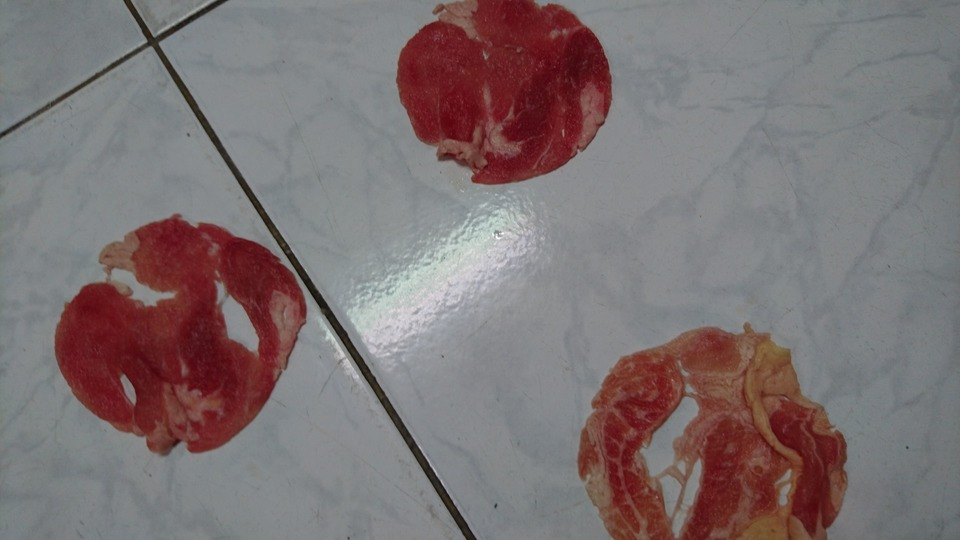restructured meat: (35, 206, 312, 456), (566, 301, 859, 537), (390, 1, 615, 187)
